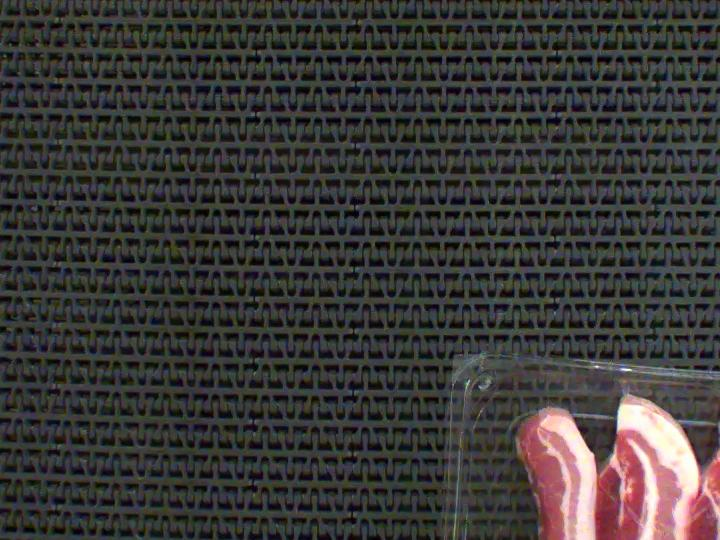packaging-error: (607, 373, 638, 398)
